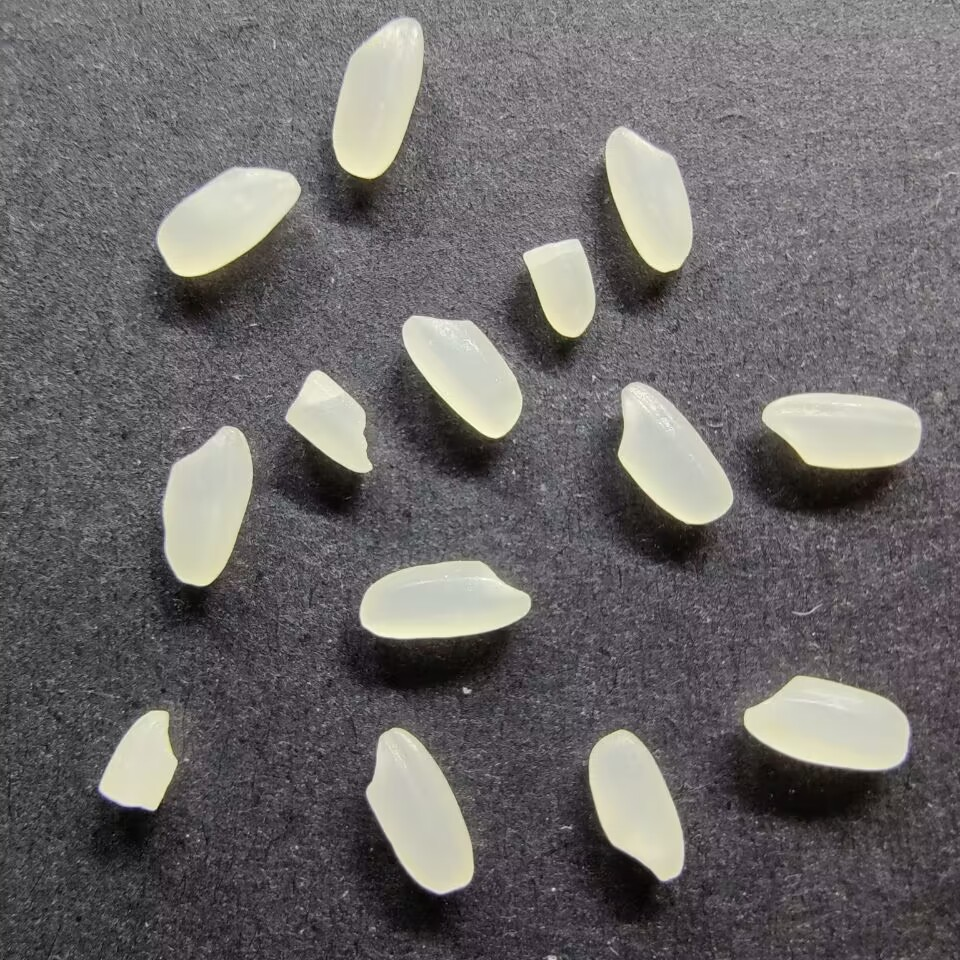broken: (281, 365, 376, 476), (94, 706, 180, 811), (521, 236, 598, 339)
rice: (364, 725, 475, 895), (616, 380, 734, 526), (154, 165, 302, 279), (399, 312, 526, 440), (742, 675, 910, 771), (331, 14, 427, 181), (161, 420, 254, 588), (587, 728, 687, 883), (357, 559, 532, 639), (604, 122, 694, 274), (759, 391, 922, 471)
